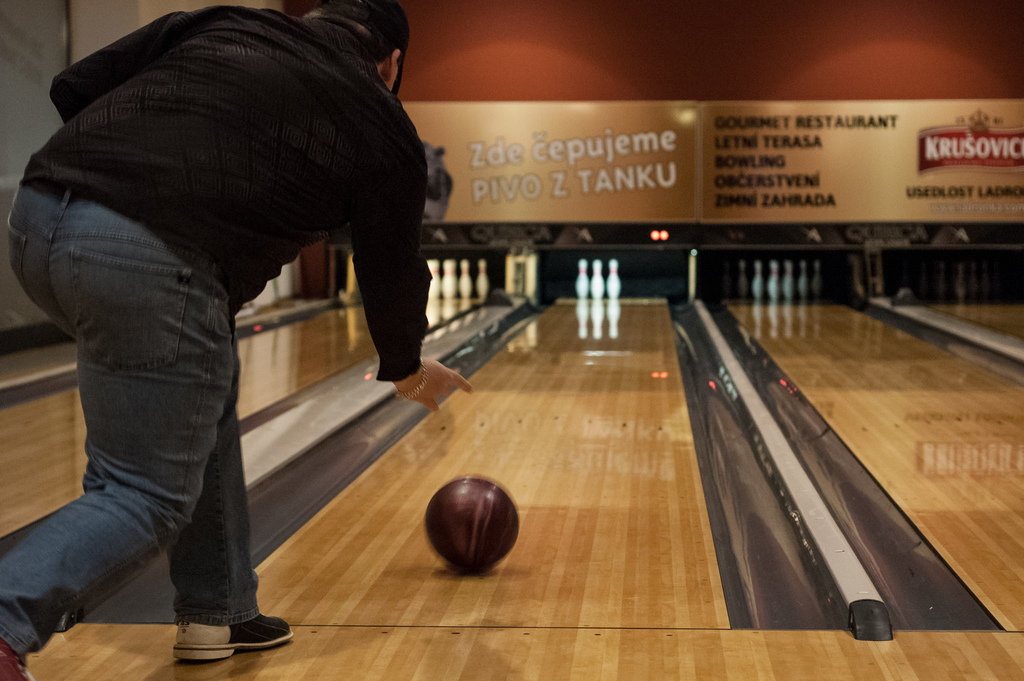Ball: (424, 476, 524, 581)
